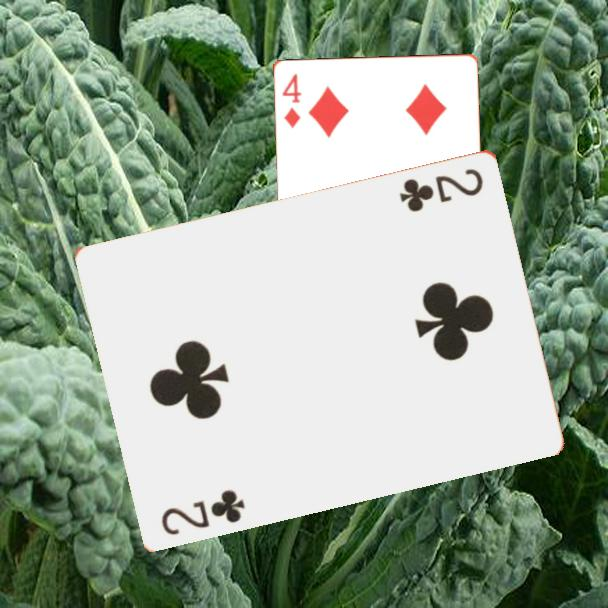c02: (158, 485, 248, 538), (396, 164, 487, 214)
d04: (278, 70, 304, 131)
